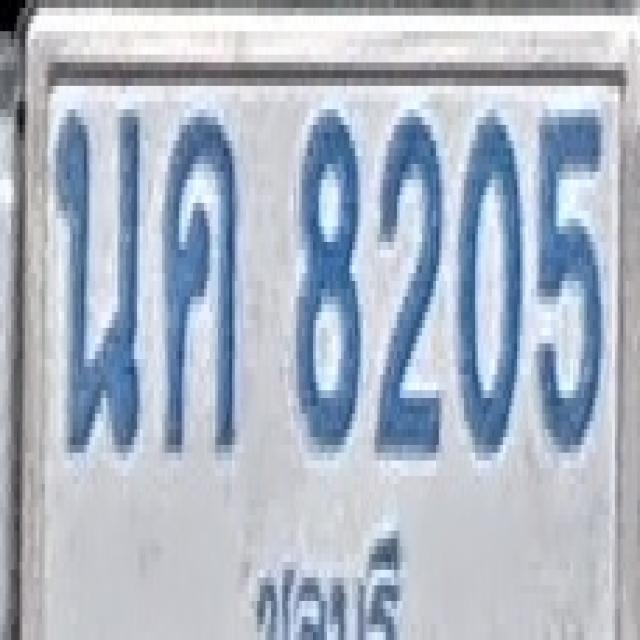0: (457, 109, 521, 453)
2: (374, 109, 442, 453)
5: (535, 109, 602, 453)
8: (295, 109, 359, 453)
A04: (162, 109, 238, 453)
A25: (55, 106, 141, 457)
CBI: (257, 529, 403, 640)
